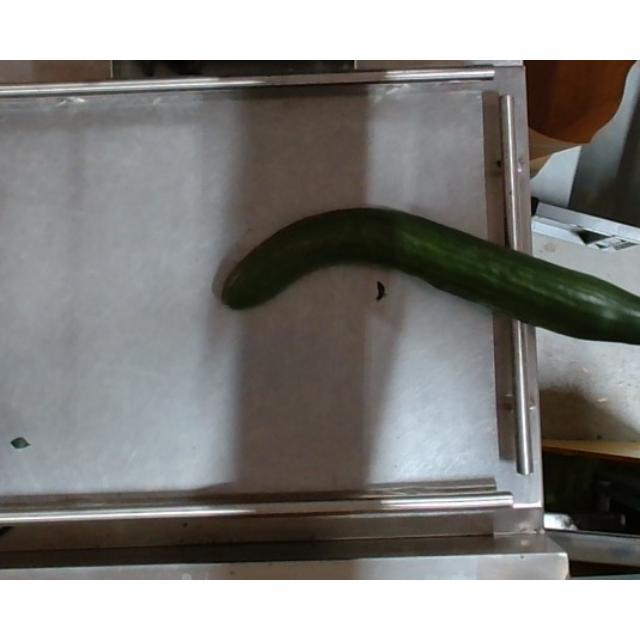cucumber: (216, 206, 640, 348)
